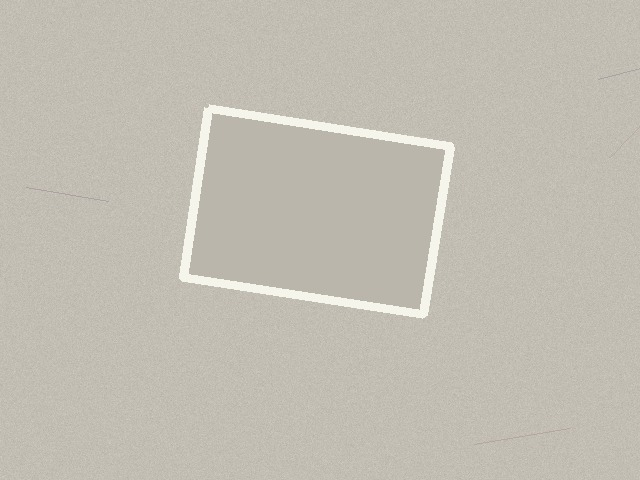parking_area: (183, 108, 450, 314)
